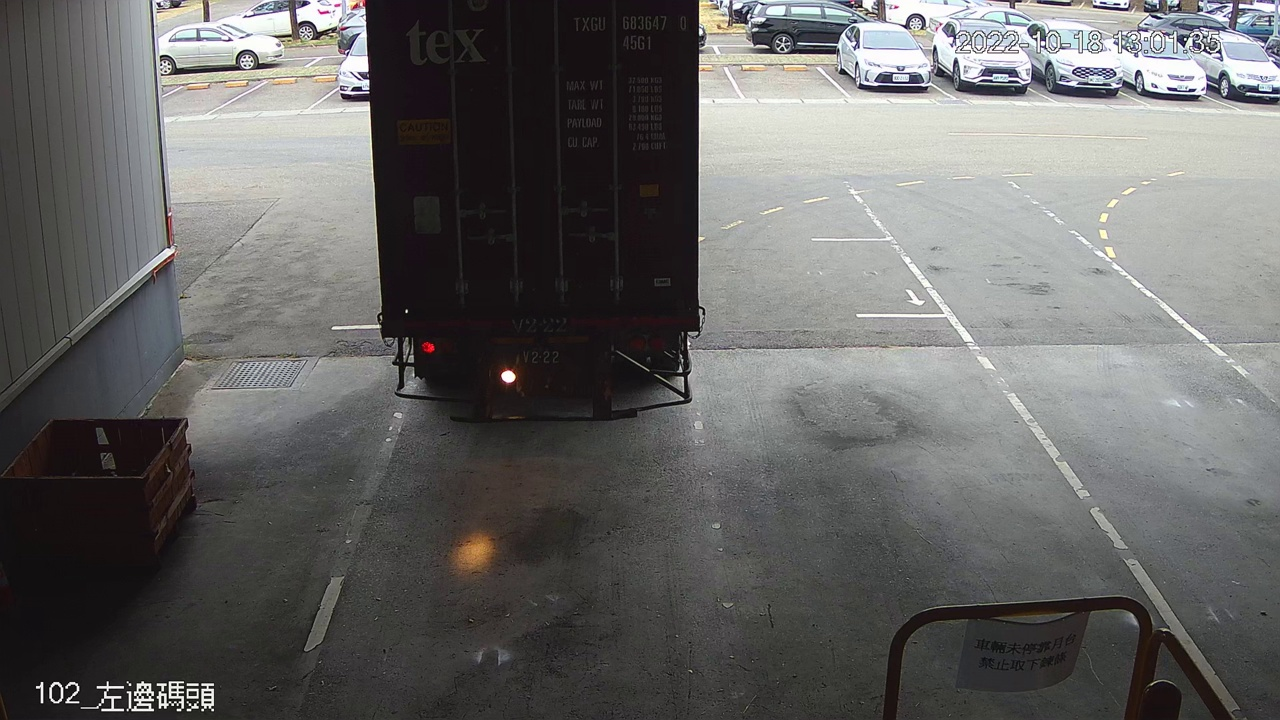container: (568, 8, 692, 57)
